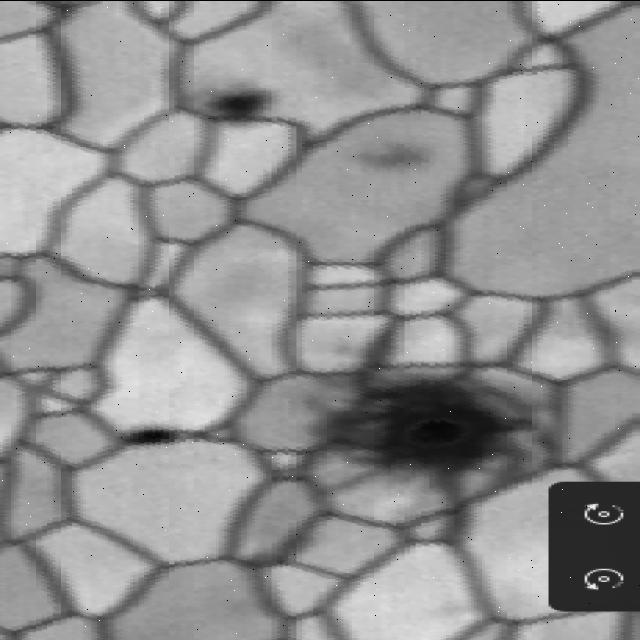good_void: (303, 367, 538, 489), (341, 127, 446, 185), (199, 79, 289, 135), (111, 423, 212, 449)
